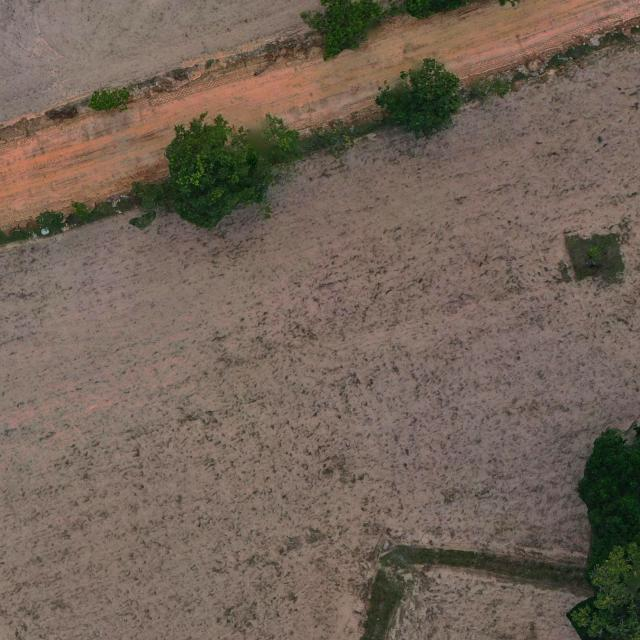Tree: (162, 110, 272, 231), (577, 416, 640, 583), (569, 510, 640, 640), (373, 57, 464, 140), (299, 0, 383, 62), (403, 0, 545, 20), (263, 112, 302, 153)
